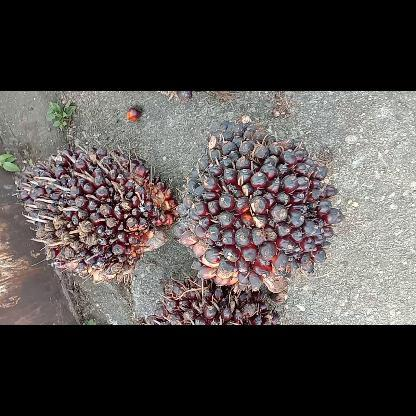TBS mentah: (172, 120, 342, 290), (15, 148, 175, 280), (146, 278, 280, 324)
